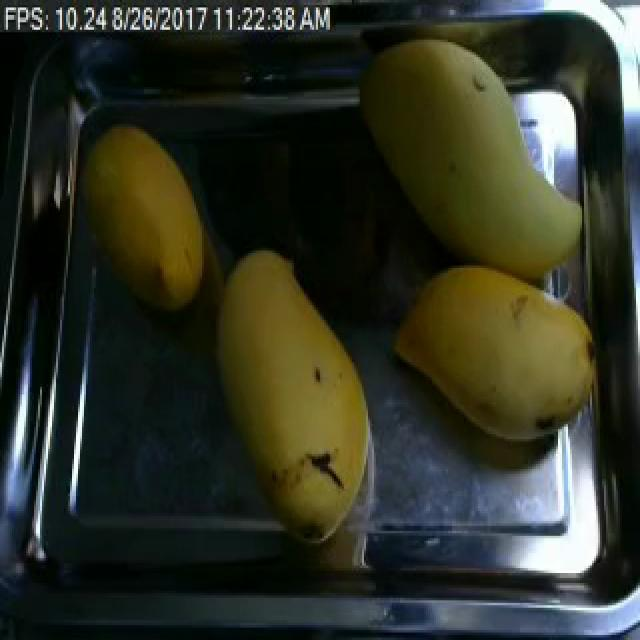fruit: (354, 17, 586, 293), (382, 248, 608, 461), (198, 241, 382, 488), (74, 114, 222, 320)
